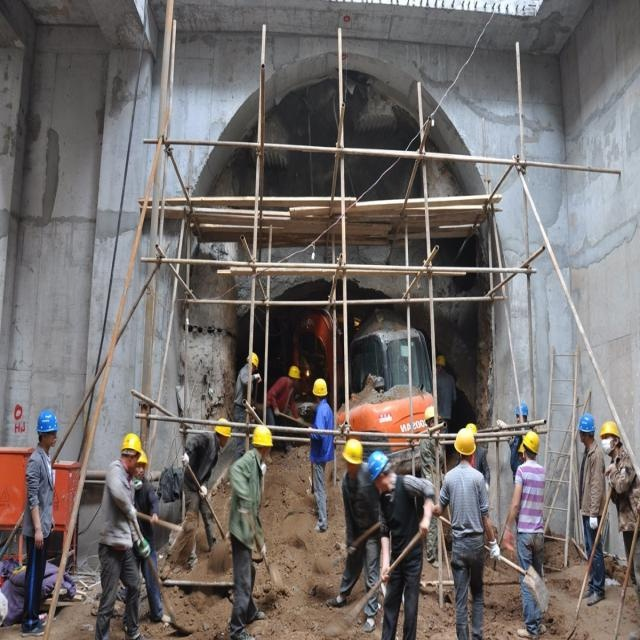Con_Casco: (36, 407, 60, 446), (520, 429, 540, 462), (577, 414, 595, 446)
Sin_Chaleco: (24, 451, 56, 532), (448, 465, 484, 535), (517, 461, 546, 531)
